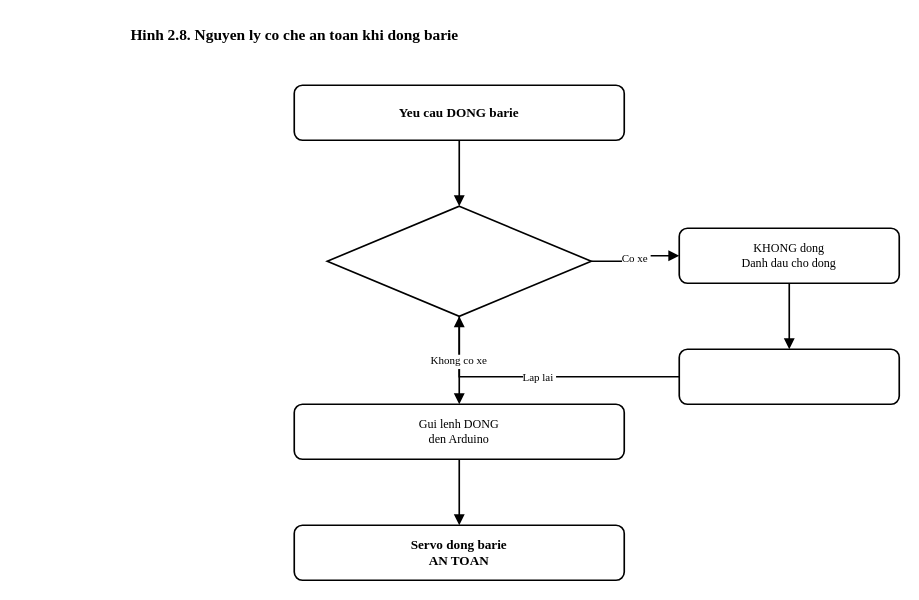
The diagram is 919 pixels wide and 600 high, and some of its shapes have lost their labels. The shapes that lost their labels are listed below. From the top down, each one's centre as x and y in pixels, then its label:
point (459, 261): Cam bien tai cong con phat hien xe?
point (789, 376): Kiem tra lai moi 500ms
